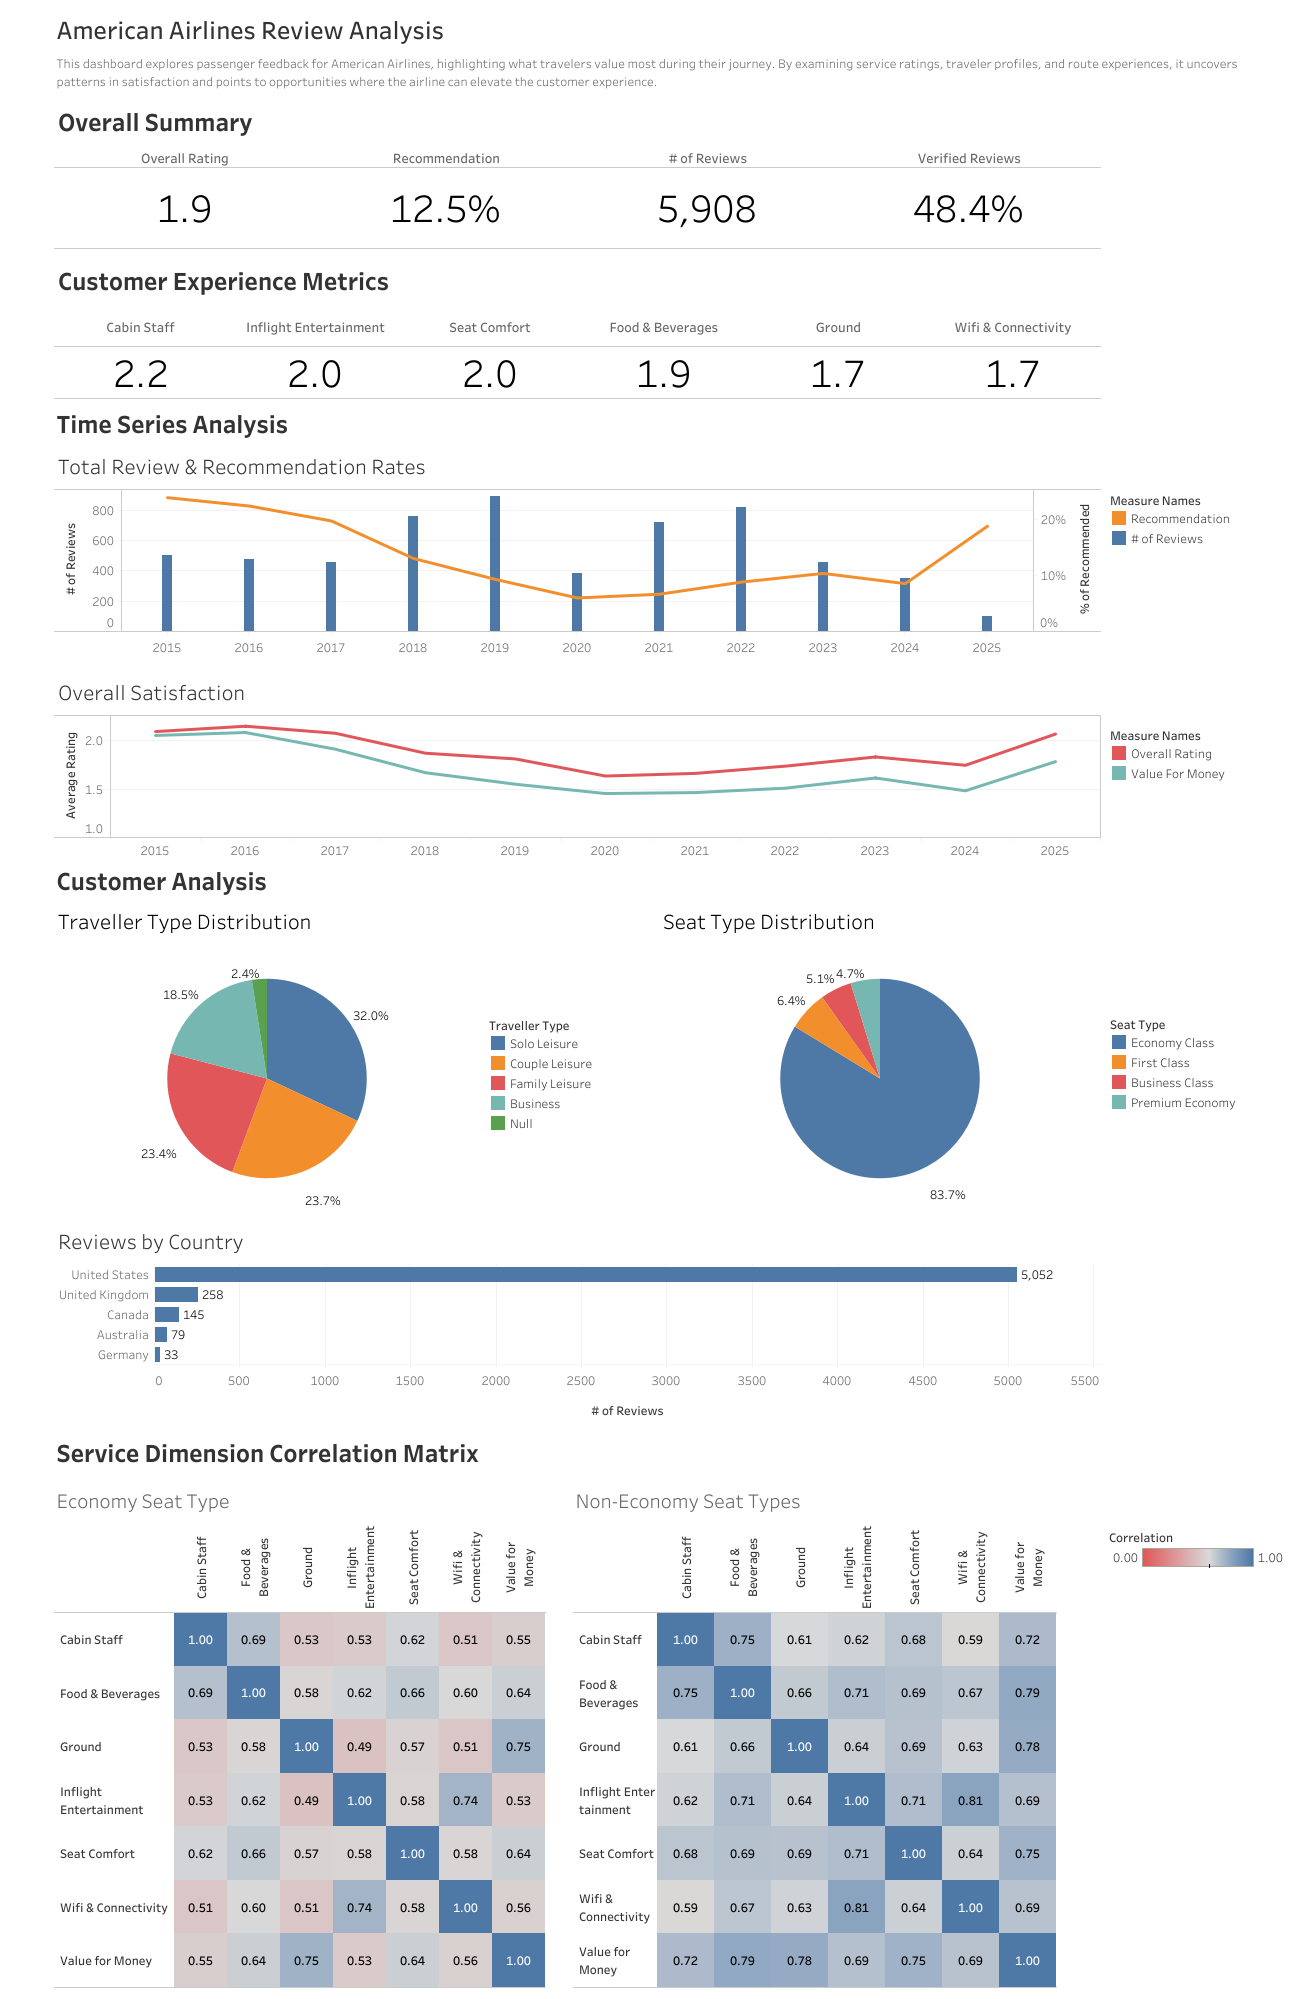

The dashboard page shown, as its layout file describes it:
{"tool":"tableau","page":{"name":"Dashboard 1","canvas":[1000,1000],"units":"permille","ordinal":0},"visuals":[{"type":"blank","box":[6.2,4,32.1,992]},{"type":"title","box":[38.2,4,955.6,20.5]},{"type":"text","box":[38.2,24.5,955.6,21]},{"type":"worksheet","title":"DataSum","mark":"Automatic","box":[38.2,45.5,812,79]},{"type":"blank","box":[850.3,45.5,143.6,196]},{"type":"worksheet","title":"SatisfactionMetrics","mark":"Automatic","box":[38.2,124.5,812,74.5]},{"type":"text","box":[38.2,199,812,19.5]},{"type":"worksheet","title":"#Review%Recommended","mark":"Bar","rows":["review_id","Calculation_537335784213790720"],"cols":["submitted_date"],"box":[38.2,218.5,812,112]},{"type":"legend","title":"#Review%Recommended","param":"[federated.0s96i351wny2ng14ti2cp0nn4qun].[:Measure Names]","box":[850.3,241.5,143.6,111.5]},{"type":"worksheet","title":"OverallSatisfaction","mark":"Automatic","rows":["average_rating","value_for_money"],"cols":["submitted_date"],"box":[38.2,332.3,812,97.7]},{"type":"legend","title":"OverallSatisfaction","param":"[federated.0s96i351wny2ng14ti2cp0nn4qun].[:Measure Names]","box":[850.3,359,143.6,33]},{"type":"text","box":[38.2,430,812,17.8]},{"type":"worksheet","title":"TravellerType","mark":"Pie","box":[38.2,447.8,334.2,160]},{"type":"blank","box":[372.5,447.8,131.4,56.2]},{"type":"worksheet","title":"SeatType","mark":"Pie","box":[503.9,447.8,346.4,160]},{"type":"blank","box":[850.3,447.8,143.6,55.7]},{"type":"legend","title":"SeatType","param":"[federated.0s96i351wny2ng14ti2cp0nn4qun].[none:seat_type:nk]","box":[850.3,503.5,143.6,104.3]},{"type":"legend","title":"TravellerType","param":"[federated.0s96i351wny2ng14ti2cp0nn4qun].[none:type_of_traveller:nk]","box":[372.5,504,131.4,103.8]},{"type":"worksheet","title":"CountryReview","mark":"Automatic","rows":["nationality"],"cols":["review_id"],"box":[38.2,607.8,812,103.2]},{"type":"blank","box":[850.3,607.8,143.6,103.2]},{"type":"text","box":[38.2,711,812,28.5]},{"type":"blank","box":[850.3,711,143.6,28.5]},{"type":"text","box":[38.2,739.5,399.4,20]},{"type":"text","box":[437.7,739.5,556.2,20]},{"type":"worksheet","title":"eco heat","mark":"Automatic","rows":["metric_y"],"cols":["metric_x"],"box":[38.2,759.5,399.4,236.5]},{"type":"worksheet","title":"eco heat (2)","mark":"Automatic","rows":["metric_y"],"cols":["metric_x"],"box":[437.7,759.5,412.6,236.5]},{"type":"legend","title":"eco heat (2)","param":"[federated.06ufy520tb83cb19agsgc08zw278].[sum:correlation:qk]","box":[850.3,759.5,143.6,118.2]},{"type":"blank","box":[850.3,877.8,143.6,118.2]}]}

Visuals, with their boxes on the dashboard's canvas, which has no fixed pixel size, in thousandths of its width and height (x1, y1, x2, y2). These are canvas units, not pixel positions in the 1299x1999 screenshot, which may show the page scaled, cropped or inside an application window:
blank: x1=6, y1=4, x2=38, y2=996
title: x1=38, y1=4, x2=994, y2=24
text: x1=38, y1=24, x2=994, y2=46
"DataSum" worksheet: x1=38, y1=46, x2=850, y2=124
blank: x1=850, y1=46, x2=994, y2=242
"SatisfactionMetrics" worksheet: x1=38, y1=124, x2=850, y2=199
text: x1=38, y1=199, x2=850, y2=218
"#Review%Recommended" worksheet (Bar marks): x1=38, y1=218, x2=850, y2=330
"#Review%Recommended" legend: x1=850, y1=242, x2=994, y2=353
"OverallSatisfaction" worksheet: x1=38, y1=332, x2=850, y2=430
"OverallSatisfaction" legend: x1=850, y1=359, x2=994, y2=392
text: x1=38, y1=430, x2=850, y2=448
"TravellerType" worksheet (Pie marks): x1=38, y1=448, x2=372, y2=608
blank: x1=372, y1=448, x2=504, y2=504
"SeatType" worksheet (Pie marks): x1=504, y1=448, x2=850, y2=608
blank: x1=850, y1=448, x2=994, y2=504
"SeatType" legend: x1=850, y1=504, x2=994, y2=608
"TravellerType" legend: x1=372, y1=504, x2=504, y2=608
"CountryReview" worksheet: x1=38, y1=608, x2=850, y2=711
blank: x1=850, y1=608, x2=994, y2=711
text: x1=38, y1=711, x2=850, y2=740
blank: x1=850, y1=711, x2=994, y2=740
text: x1=38, y1=740, x2=438, y2=760
text: x1=438, y1=740, x2=994, y2=760
"eco heat" worksheet: x1=38, y1=760, x2=438, y2=996
"eco heat (2)" worksheet: x1=438, y1=760, x2=850, y2=996
"eco heat (2)" legend: x1=850, y1=760, x2=994, y2=878
blank: x1=850, y1=878, x2=994, y2=996
